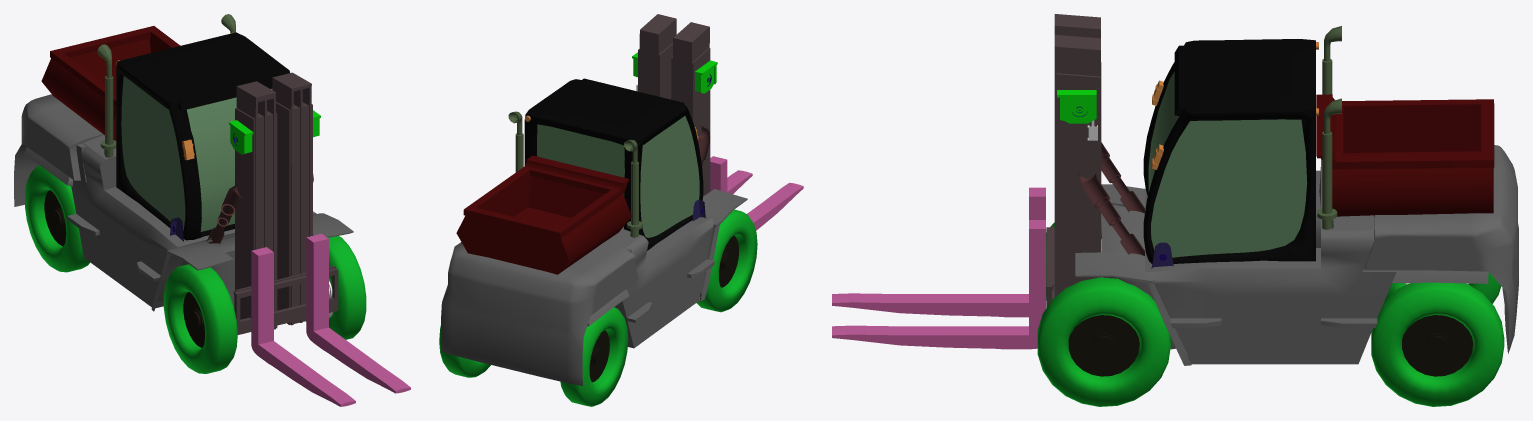
File: chariot élevateur momo.fbx
3 views of the same model, side by side, from view 1: azimuth 30°, elevation 25°; view 2: azimuth 150°, elevation 25°; view 3: azimuth 270°, elevation 25° (orthographic). The views are drawn at different scales.
Parts seen in each view (by area): view 1: carcasse momo, Pneu momo 2, Pneu momo 4, Pneu momo 01; view 2: carcasse momo, Pneu momo 4, Pneu momo 2, Pneu momo 3; view 3: carcasse momo, Pneu momo 01, Pneu momo 3.
Part boxes in pixels (<box>): carcasse momo: <box>14,14,410,406</box>; Pneu momo 2: <box>163,264,237,373</box>; Pneu momo 4: <box>25,165,89,272</box>; Pneu momo 01: <box>306,236,366,339</box>; carcasse momo: <box>441,14,803,385</box>; Pneu momo 4: <box>560,307,628,406</box>; Pneu momo 2: <box>696,209,757,312</box>; Pneu momo 3: <box>439,325,490,377</box>; carcasse momo: <box>832,14,1518,365</box>; Pneu momo 01: <box>1037,277,1170,406</box>; Pneu momo 3: <box>1371,282,1504,406</box>.
Size of the model in its own units: 59.88 by 96.17 by 180.
